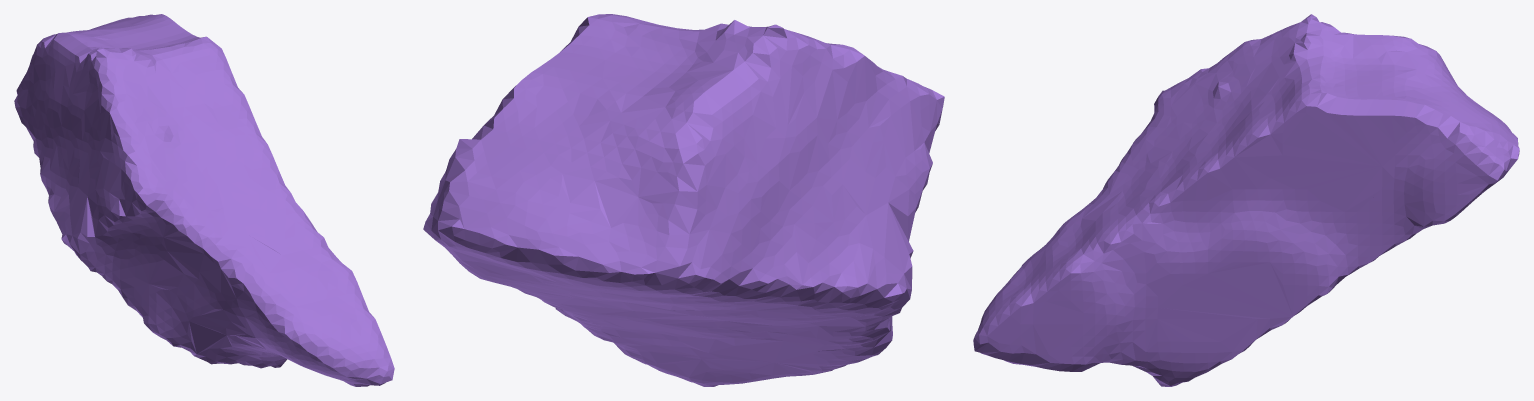
File: Model_136_RH__Temporal_area_TL__occipital_part_(TLO).obj
The picture shows the model from 3 angles, left to right: view 1: azimuth 30°, elevation 25°; view 2: azimuth 150°, elevation 25°; view 3: azimuth 270°, elevation 25°; orthographic projection. The views are drawn at different scales.
Size of the model in its own units: 1.95 by 2.79 by 4.39.
